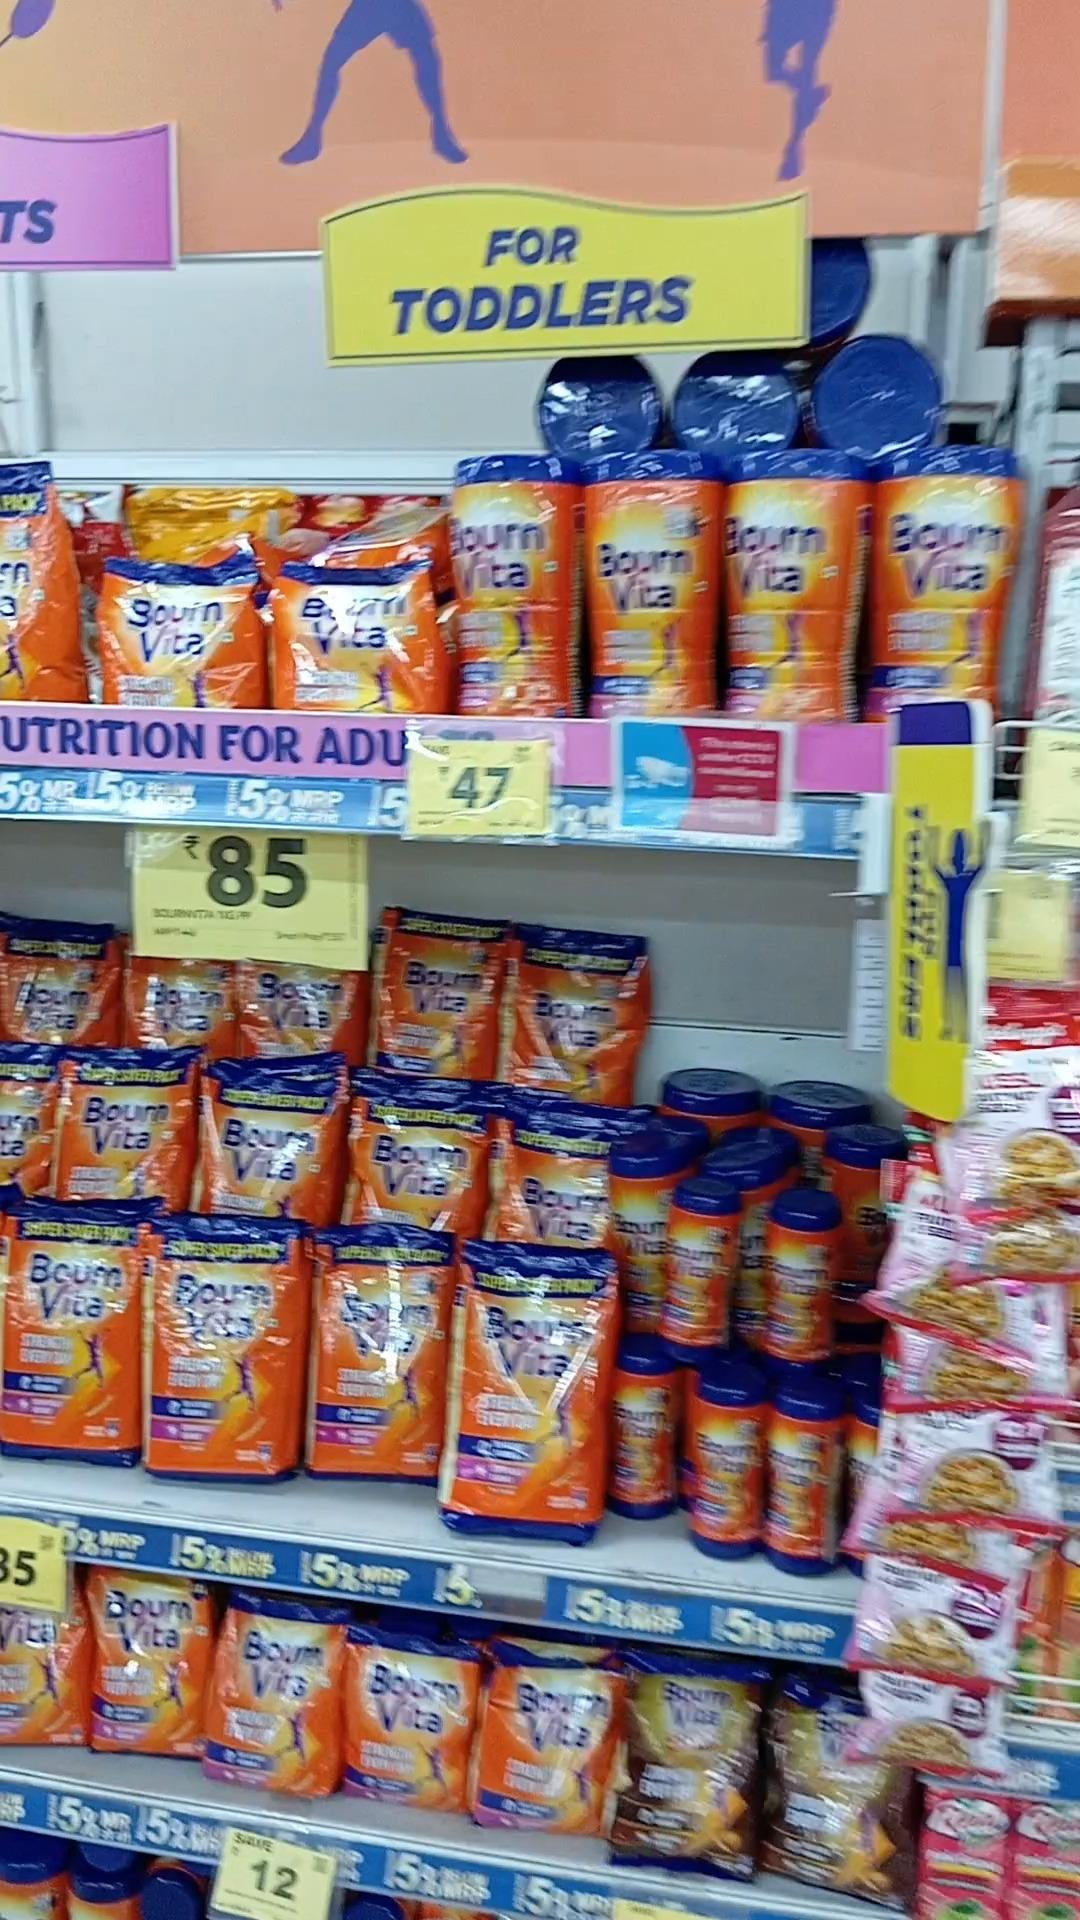BOURN_VITA_1_KG_JAR: (721, 450, 857, 720), (872, 450, 1014, 688), (450, 459, 578, 719), (585, 456, 713, 713)
BOURN_VITA_1_KG_POUCH: (448, 1241, 595, 1543), (138, 1220, 297, 1482), (8, 1205, 129, 1465), (310, 1241, 434, 1477), (509, 926, 638, 1091), (199, 1064, 331, 1213), (58, 1048, 186, 1195), (373, 911, 488, 1067), (355, 1083, 481, 1221)
BOURN_VITA_500_G_JAR: (766, 1189, 833, 1375), (695, 1374, 764, 1553), (771, 1386, 835, 1575), (665, 1172, 732, 1344), (615, 1350, 674, 1528)
BOURN_VITA_500_G_POUCH: (96, 554, 260, 720), (268, 554, 433, 708), (215, 1592, 328, 1799), (483, 1658, 599, 1834), (349, 1631, 458, 1812)
BOURN_VITA_750_G_POUCH: (90, 1569, 202, 1766)
BOURN_VITA_FIVE_STAR_MAGIC_500_G_POUCH: (618, 1660, 754, 1879), (764, 1683, 893, 1902)
